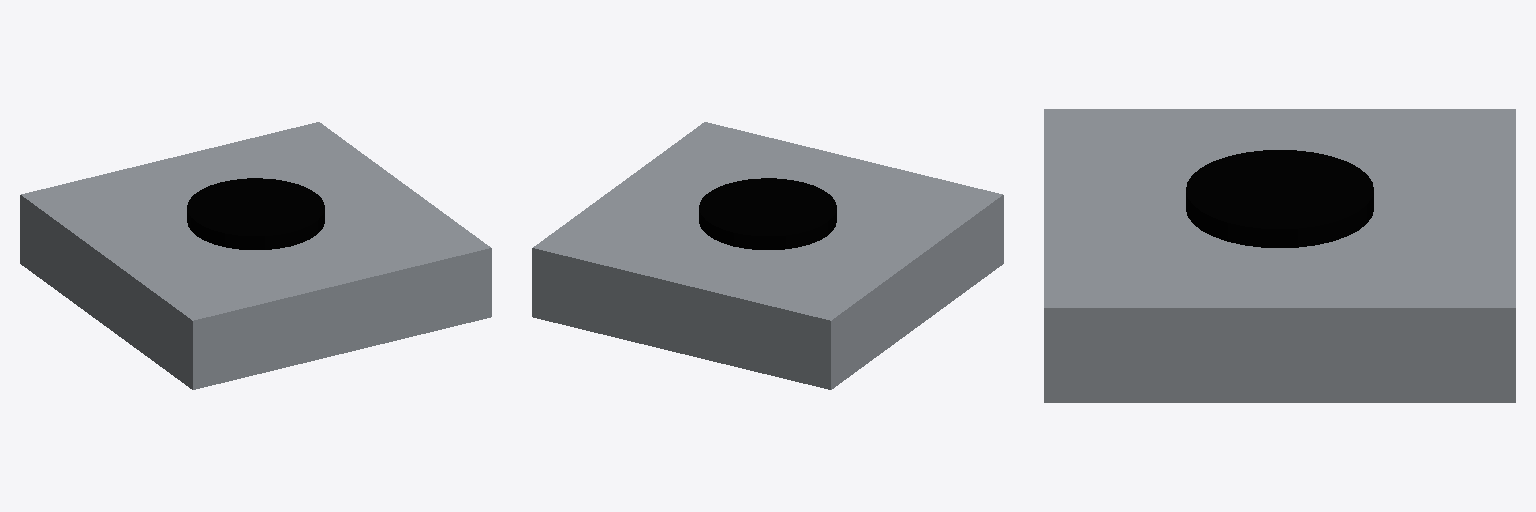
The robot description file, URDF, robot "parttoolgen_visible_screw_hole_045":
<?xml version="1.0"?>
<robot name="parttoolgen_visible_screw_hole_045">
  <link name="visible_screw_hole">
    <visual>
      <material name="matte_gray_plate">
        <color rgba="0.62 0.64 0.66 1.0"/>
      </material>
      <origin xyz="0 0 0"/>
      <geometry>
        <box size="0.045 0.045 0.010"/>
      </geometry>
    </visual>
    <visual>
      <material name="matte_black_hole">
        <color rgba="0.02 0.02 0.02 1.0"/>
      </material>
      <origin xyz="0 0 0.006" rpy="0 0 0"/>
      <geometry>
        <cylinder radius="0.009" length="0.002"/>
      </geometry>
    </visual>
    <collision>
      <origin xyz="0 0 0"/>
      <geometry>
        <box size="0.045 0.045 0.010"/>
      </geometry>
    </collision>
    <inertial>
      <mass value="0.02"/>
      <inertia ixx="0.000004" ixy="0.0" ixz="0.0" iyy="0.000004" iyz="0.0" izz="0.000004"/>
    </inertial>
  </link>
</robot>

--- What the picture shows (computed from the rendered views, not written in the file) ---
The picture shows the robot from 3 angles, left to right: view 1: azimuth 30°, elevation 25°; view 2: azimuth 150°, elevation 25°; view 3: azimuth 270°, elevation 25°; orthographic projection.
Robot: parttoolgen_visible_screw_hole_045 — 1 links, 0 joints (none); root link visible_screw_hole; default pose: all joints at 0.
Visible links, largest first — view 1: visible_screw_hole; view 2: visible_screw_hole; view 3: visible_screw_hole.
Link boxes in pixels (left/top/right/bottom): visible_screw_hole: left=20, top=122, right=491, bottom=389; visible_screw_hole: left=532, top=122, right=1003, bottom=389; visible_screw_hole: left=1044, top=109, right=1515, bottom=402.
Size in the robot's own frame: 0.045 by 0.045 by 0.012 metres.
Geometry: primitives only (box / cylinder / sphere), no mesh files.
